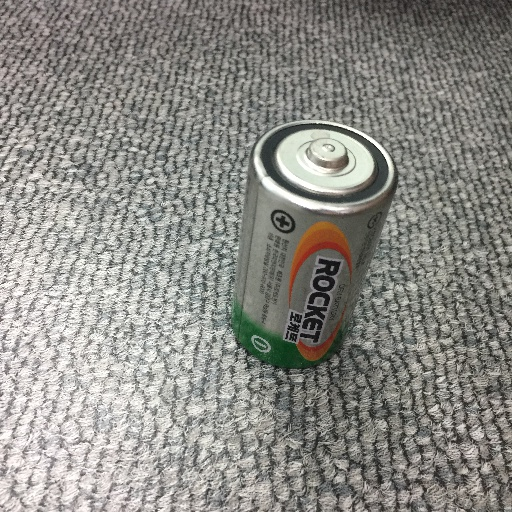Battery_0: (208, 102, 407, 376)
